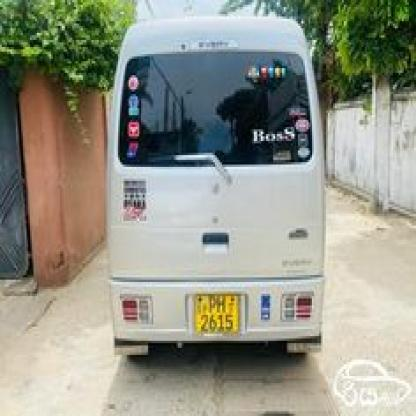number plate: (193, 292, 238, 336)
van back: (110, 15, 328, 361)
